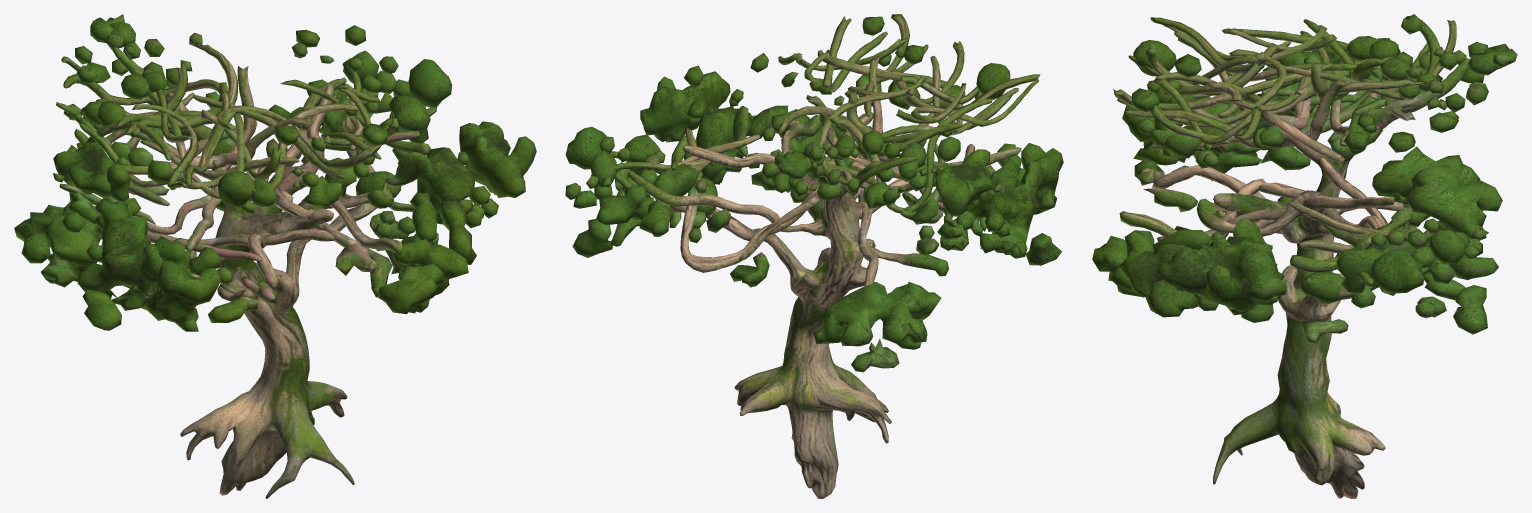
File: tree.glb
3 renders of one model, left to right at view 1: azimuth 30°, elevation 25°; view 2: azimuth 150°, elevation 25°; view 3: azimuth 270°, elevation 25°, orthographic. The views are drawn at different scales.
Visible parts, largest first — view 1: Mesh_0; view 2: Mesh_0; view 3: Mesh_0.
Boxes of the visible parts, <box> form: Mesh_0: <box>14,14,536,498</box>; Mesh_0: <box>565,14,1063,498</box>; Mesh_0: <box>1092,14,1517,498</box>.
Size of the model in its own units: 10.6 by 10 by 8.91.
Materials: 1 (1 with a texture image).
